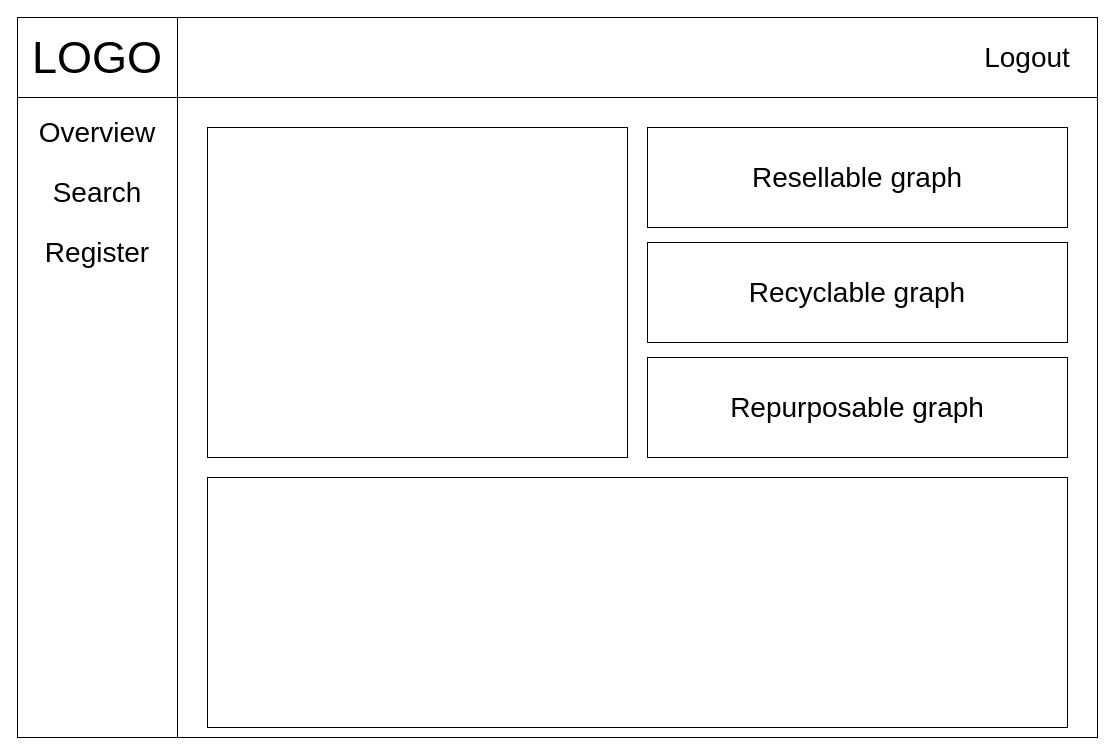
Some shapes in this 1115 by 755 pixel diagram are drawn without their labels. Here are the shapes that lost their labels. From the top down, the box of each, then its label:
(206, 126, 628, 458): Overall graph ( by type)
(206, 476, 1068, 728): Table with value data
